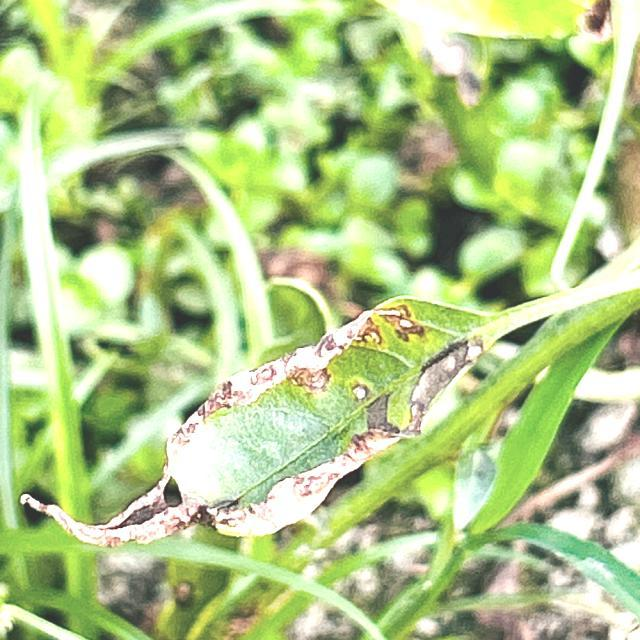Bercak Daun Serkospora: (14, 292, 548, 550)
